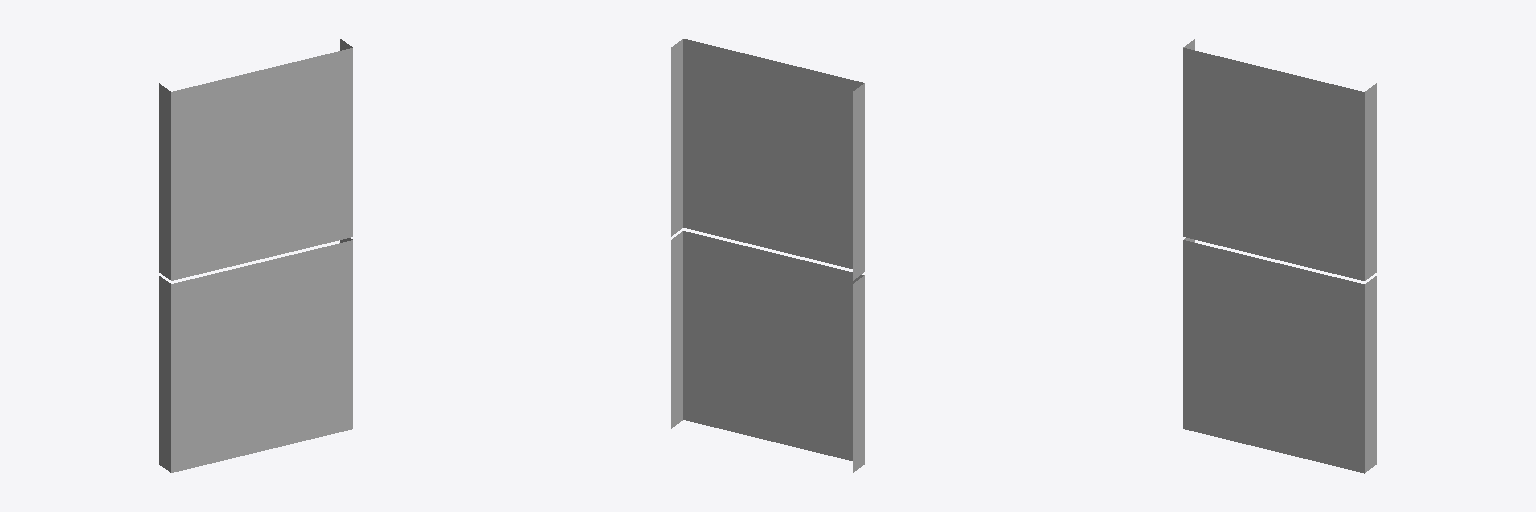
The model's file is covergb.obj.
3 renders of one model, left to right at view 1: azimuth 30°, elevation 25°; view 2: azimuth 150°, elevation 25°; view 3: azimuth 330°, elevation 25°, orthographic.
Visible parts, largest first — view 1: covergb_cover.004; view 2: covergb_cover.004; view 3: covergb_cover.004.
Boxes of the visible parts, x1,y1,x2,y2 form: covergb_cover.004: [159, 39, 352, 472]; covergb_cover.004: [671, 39, 864, 472]; covergb_cover.004: [1183, 39, 1376, 473].
Size of the model in its own units: 1.55 by 3.11 by 0.1872.